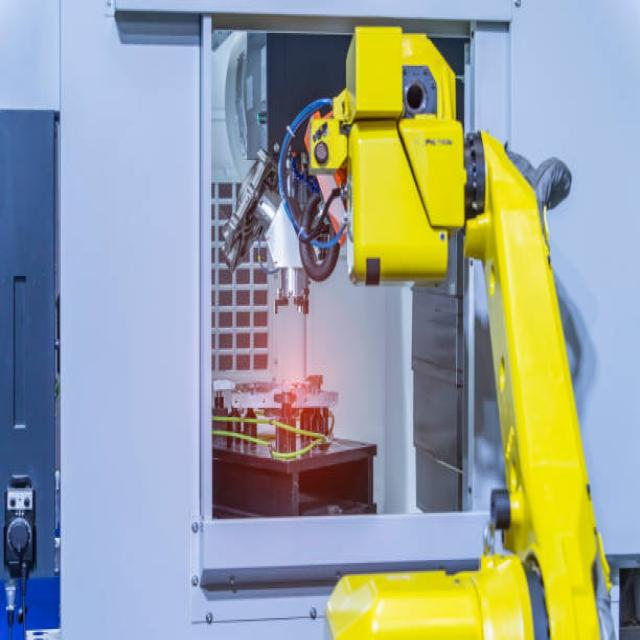Robotic-arm: (306, 20, 618, 640)
